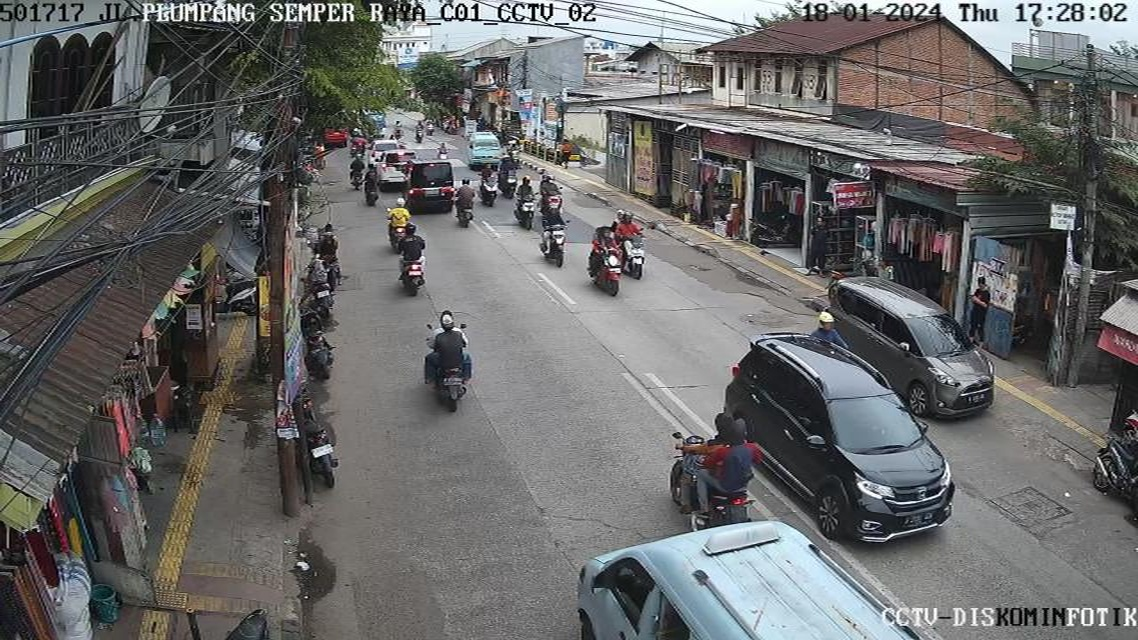Gerobak: (181, 290, 231, 384)
